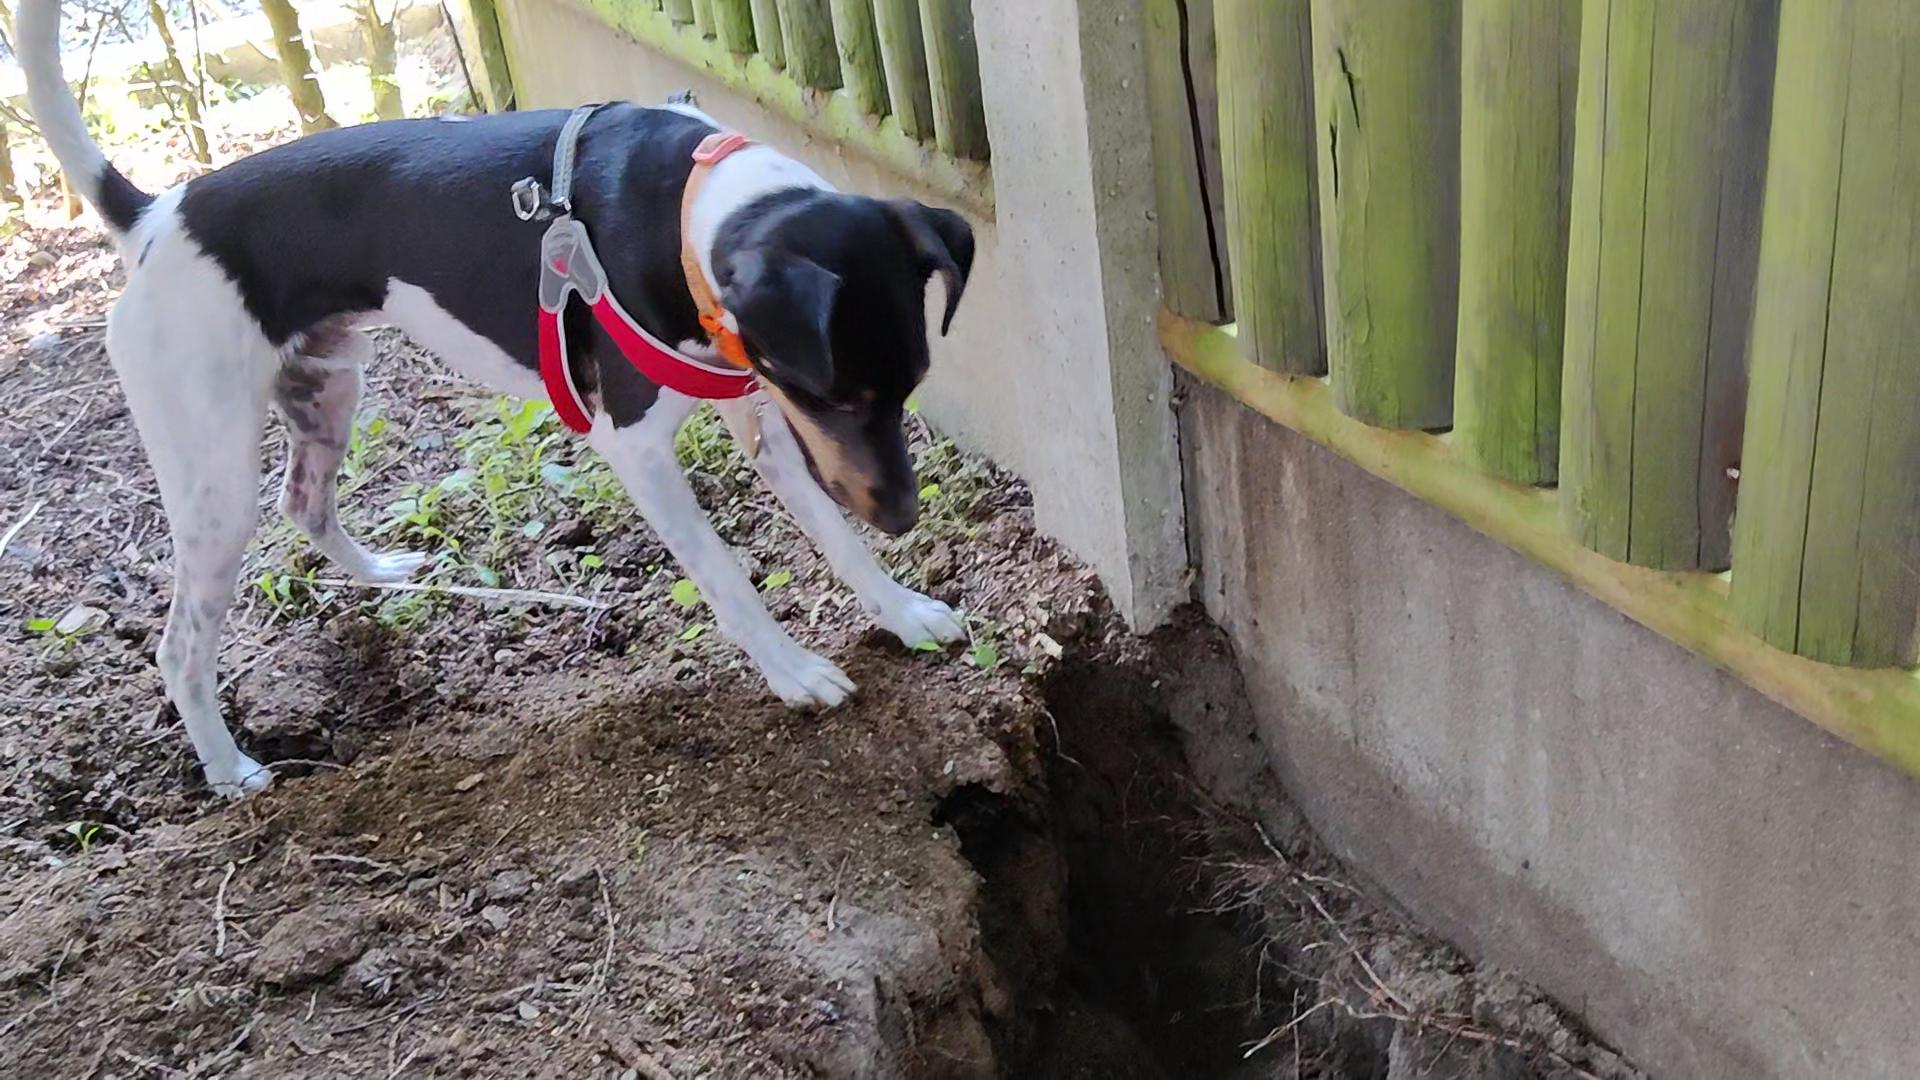Dog: (8, 0, 1015, 814)
